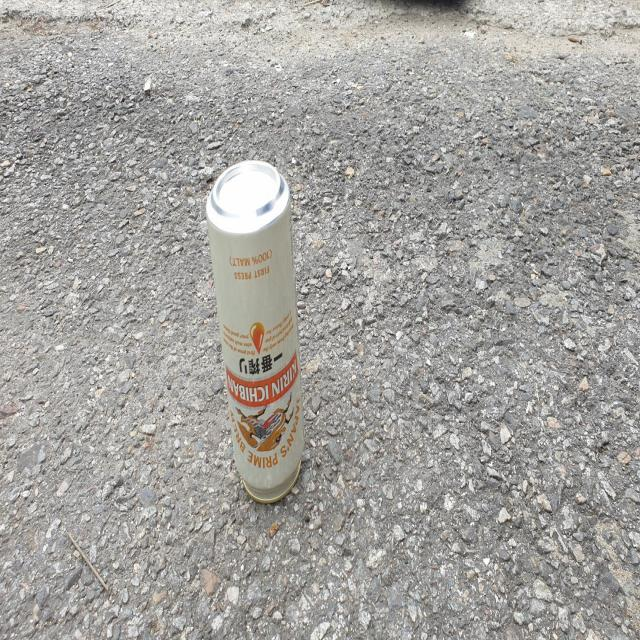can: (206, 159, 304, 503)
